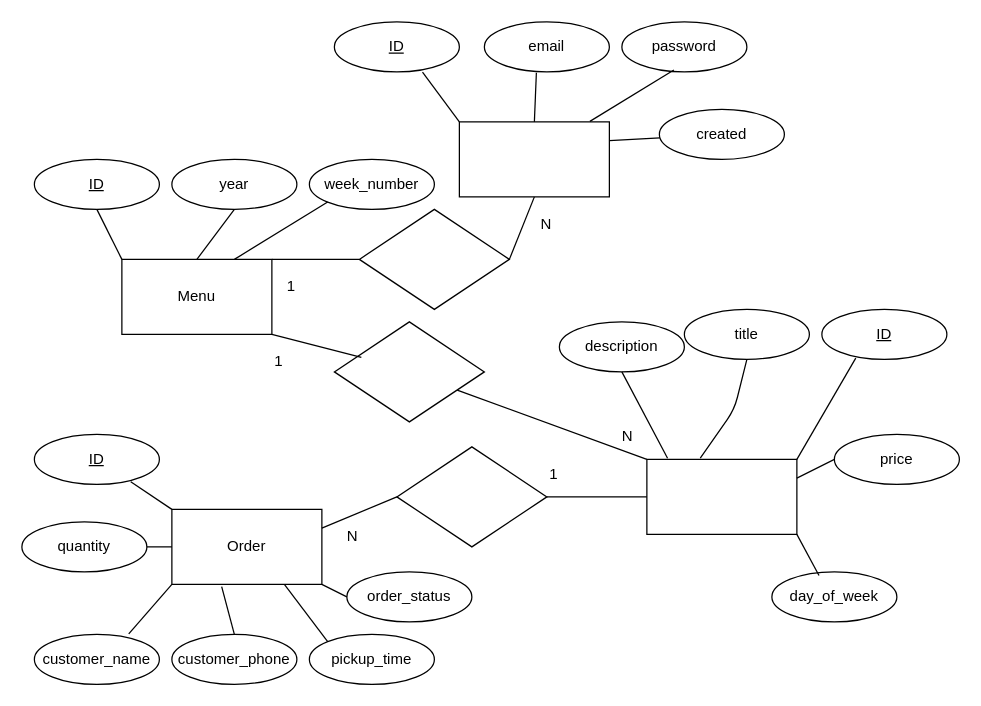
Some shapes in this 981 by 706 pixel diagram are drawn without their labels. Here are the shapes that lost their labels. From the top down, the centre of each, then its label:
point (533, 159): User
point (433, 258): Administrates
point (408, 371): contains
point (471, 496): exists_in
point (721, 496): Dish
